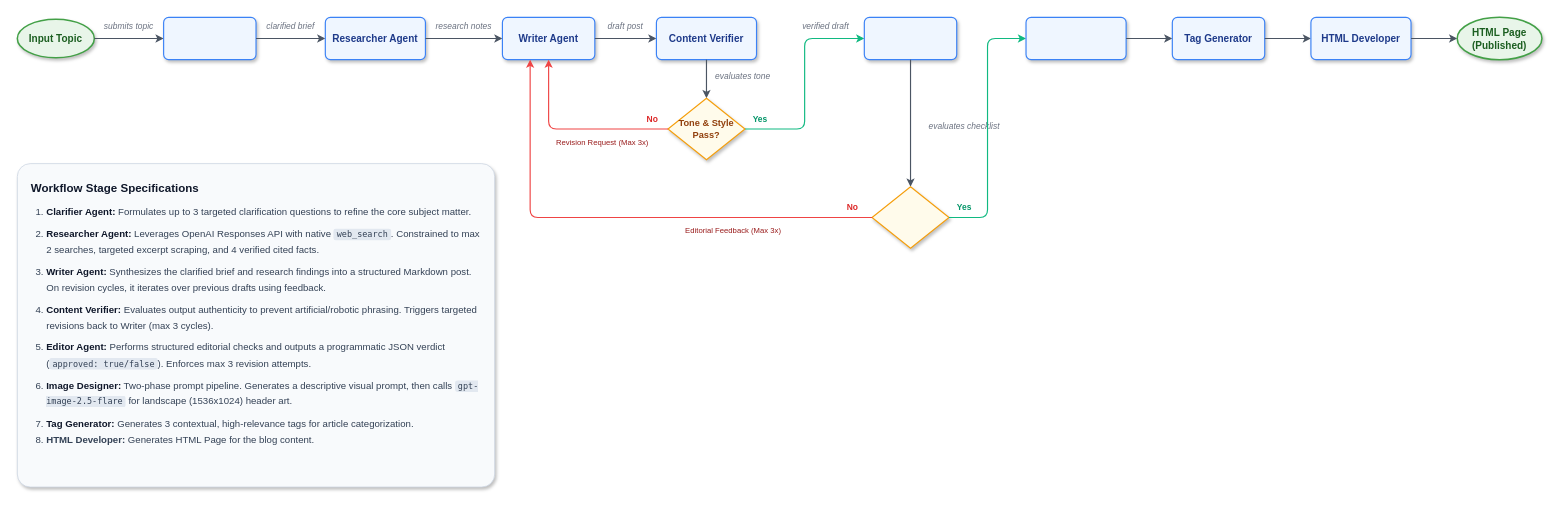
Some shapes in this 1560 by 506 pixel diagram are drawn without their labels. The centre of each missing label's shape, as x and y in pixels:
"Approved?" goes at (x=911, y=218).
"Clarifier Agent" goes at (x=210, y=39).
"Editor Agent" goes at (x=911, y=39).
"Image Designer" goes at (x=1076, y=39).
